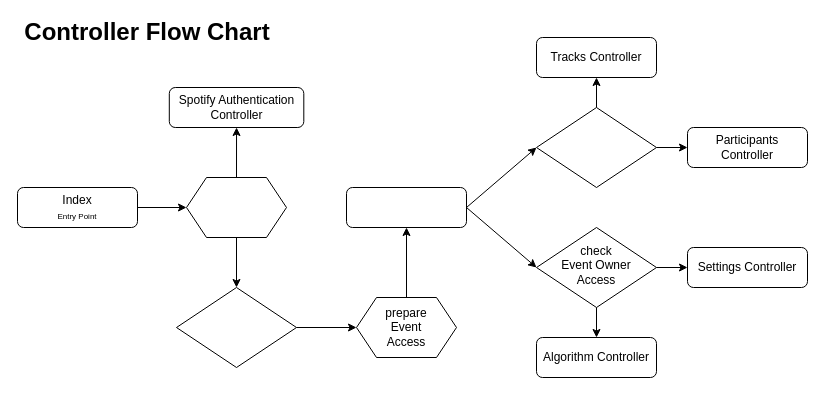
This 825x395 diagram has some shape labels left out. The shapes that lost their labels are listed below. From the top down, each one's centre as x and y in pixels, then its label:
[596,147]: check Event Access
[236,207]: prepare Spotify Access
[406,207]: Event Controller
[236,327]: check Spotify Access
